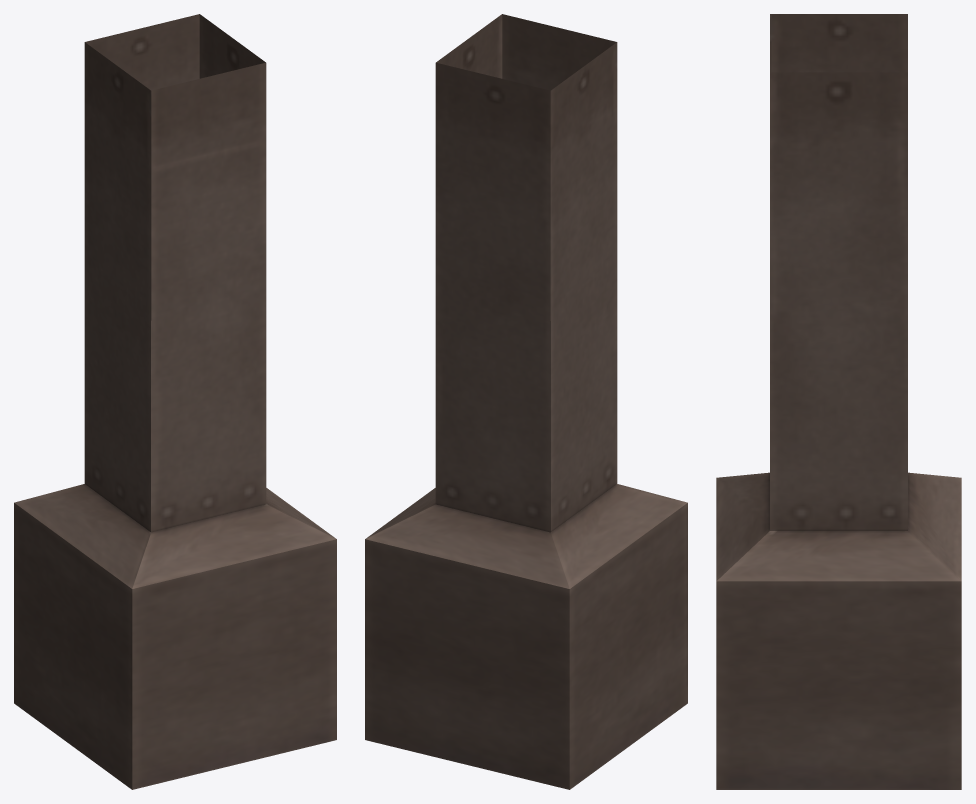
Rendered from PathSupportPillar01.fbx.
3 renders of one model, left to right at view 1: azimuth 30°, elevation 25°; view 2: azimuth 150°, elevation 25°; view 3: azimuth 270°, elevation 25°, orthographic. The views are drawn at different scales.
Visible parts, largest first — view 1: Cube.001; view 2: Cube.001; view 3: Cube.001.
Part boxes in pixels (x1,y1,x2,y2): Cube.001: [14, 14, 336, 789]; Cube.001: [365, 14, 687, 789]; Cube.001: [716, 14, 961, 789].
Size of the model in its own units: 16 by 50 by 16.
1 material, 1 textured.
